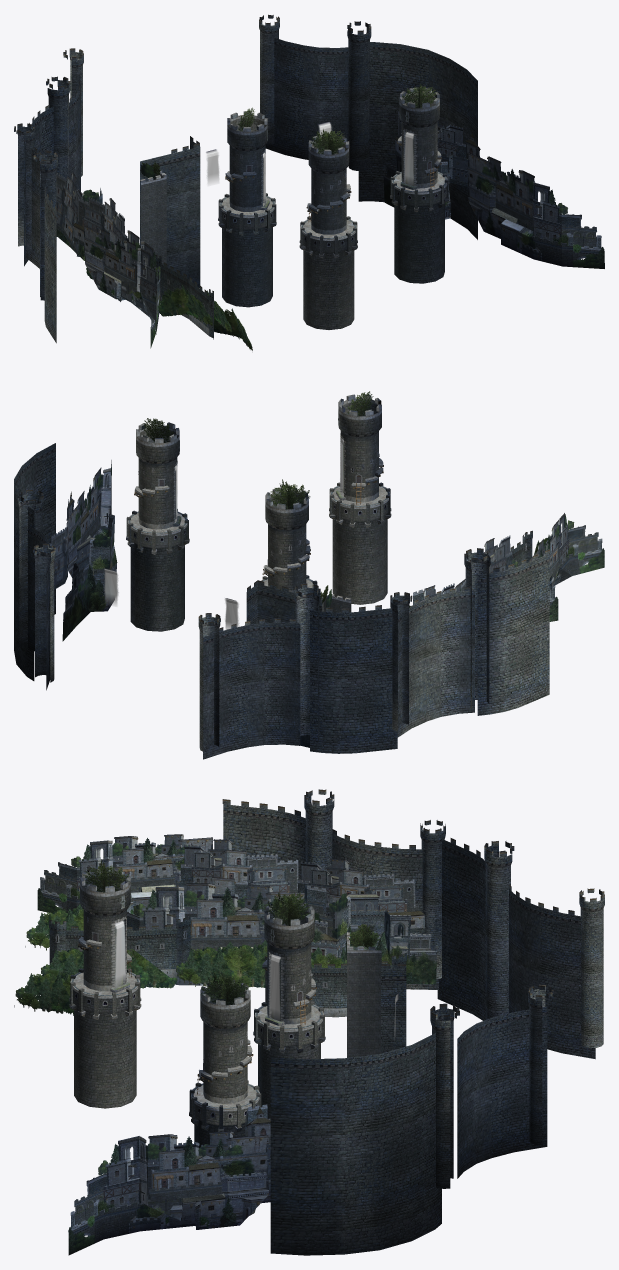
The model's file is Rooftops2.glb.
3 renders of one model, top to bottom at view 1: azimuth 30°, elevation 25°; view 2: azimuth 150°, elevation 25°; view 3: azimuth 270°, elevation 25°, orthographic. The views are drawn at different scales.
Parts seen in each view (by area): view 1: stg102_p42_Mesh_0000, stg102_os42_Mesh_0000, stg102_os42_Mesh_0005, stg102_os42_Mesh_0006, stg102_os42_Mesh_0010, stg102_os42_Mesh_0003, stg102_os42_Mesh_0008, stg102_os42_Mesh_0001, stg102_p42_Mesh_0001, stg102_waterfall_42_Mesh_0001, stg102_os42_Mesh_0016, stg102_p42_Mesh_0004 (+3 smaller); view 2: stg102_os42_Mesh_0006, stg102_os42_Mesh_0000, stg102_p42_Mesh_0000, stg102_os42_Mesh_0005, stg102_os42_Mesh_0010, stg102_os42_Mesh_0003, stg102_p42_Mesh_0001, stg102_os42_Mesh_0008, stg102_waterfall_42_Mesh_0001, stg102_os42_Mesh_0016; view 3: stg102_p42_Mesh_0000, stg102_os42_Mesh_0005, stg102_os42_Mesh_0006, stg102_os42_Mesh_0000, stg102_os42_Mesh_0010, stg102_os42_Mesh_0008, stg102_os42_Mesh_0001, stg102_p42_Mesh_0001, stg102_os42_Mesh_0003, stg102_os42_Mesh_0016, stg102_waterfall_42_Mesh_0001, stg102_p42_Mesh_0004 (+2 smaller).
Part boxes in pixels (x1,y1,x2,y2): stg102_p42_Mesh_0000: (56,111,604,350); stg102_os42_Mesh_0000: (218,95,448,329); stg102_os42_Mesh_0005: (260,30,477,239); stg102_os42_Mesh_0006: (18,60,200,343); stg102_os42_Mesh_0010: (14,48,200,219); stg102_os42_Mesh_0003: (221,88,447,240); stg102_os42_Mesh_0008: (259,14,477,88); stg102_os42_Mesh_0001: (141,170,166,264); stg102_p42_Mesh_0001: (142,84,437,175); stg102_waterfall_42_Mesh_0001: (206,121,414,205); stg102_os42_Mesh_0016: (221,136,445,237); stg102_p42_Mesh_0004: (261,128,417,207); stg102_os42_Mesh_0006: (199,562,549,759); stg102_os42_Mesh_0000: (126,402,390,631); stg102_p42_Mesh_0000: (49,460,604,641); stg102_os42_Mesh_0005: (14,452,55,690); stg102_os42_Mesh_0010: (198,548,549,644); stg102_os42_Mesh_0003: (127,394,390,574); stg102_p42_Mesh_0001: (143,391,373,603); stg102_os42_Mesh_0008: (14,443,55,575); stg102_waterfall_42_Mesh_0001: (103,438,343,629); stg102_os42_Mesh_0016: (130,453,387,587); stg102_p42_Mesh_0000: (14,834,436,1255); stg102_os42_Mesh_0005: (270,999,547,1255); stg102_os42_Mesh_0006: (223,811,603,1059); stg102_os42_Mesh_0000: (70,876,324,1215); stg102_os42_Mesh_0010: (222,789,604,980); stg102_os42_Mesh_0008: (270,984,553,1069); stg102_os42_Mesh_0001: (347,953,381,1057); stg102_p42_Mesh_0001: (83,859,379,1005); stg102_os42_Mesh_0003: (70,867,322,1111); stg102_os42_Mesh_0016: (73,936,321,1107); stg102_waterfall_42_Mesh_0001: (114,920,398,1037); stg102_p42_Mesh_0004: (111,916,284,1021).
Bounding box in the file's own units: 231 × 109 × 198.
Materials: 20 (20 with a texture image).
